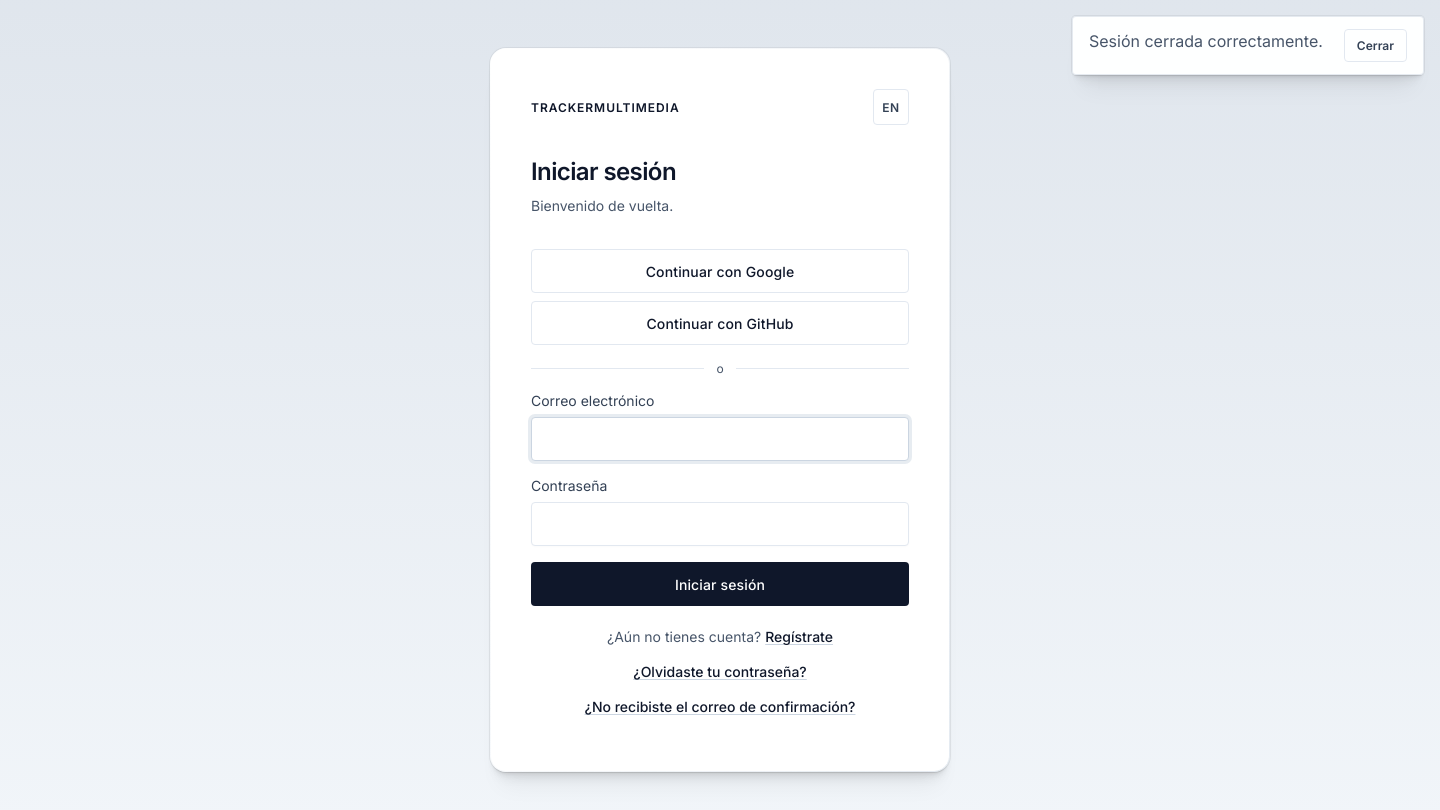
LoginView › renders OAuth methods and shows an error when an OAuth start fails
Expected: the text "Sesión cerrada correctamente." is shown, x1=1089 y1=29 x2=1323 y2=53
Click the button "Continuar con Google". click: [720, 271]
box: x1=531 y1=249 x2=909 y2=293
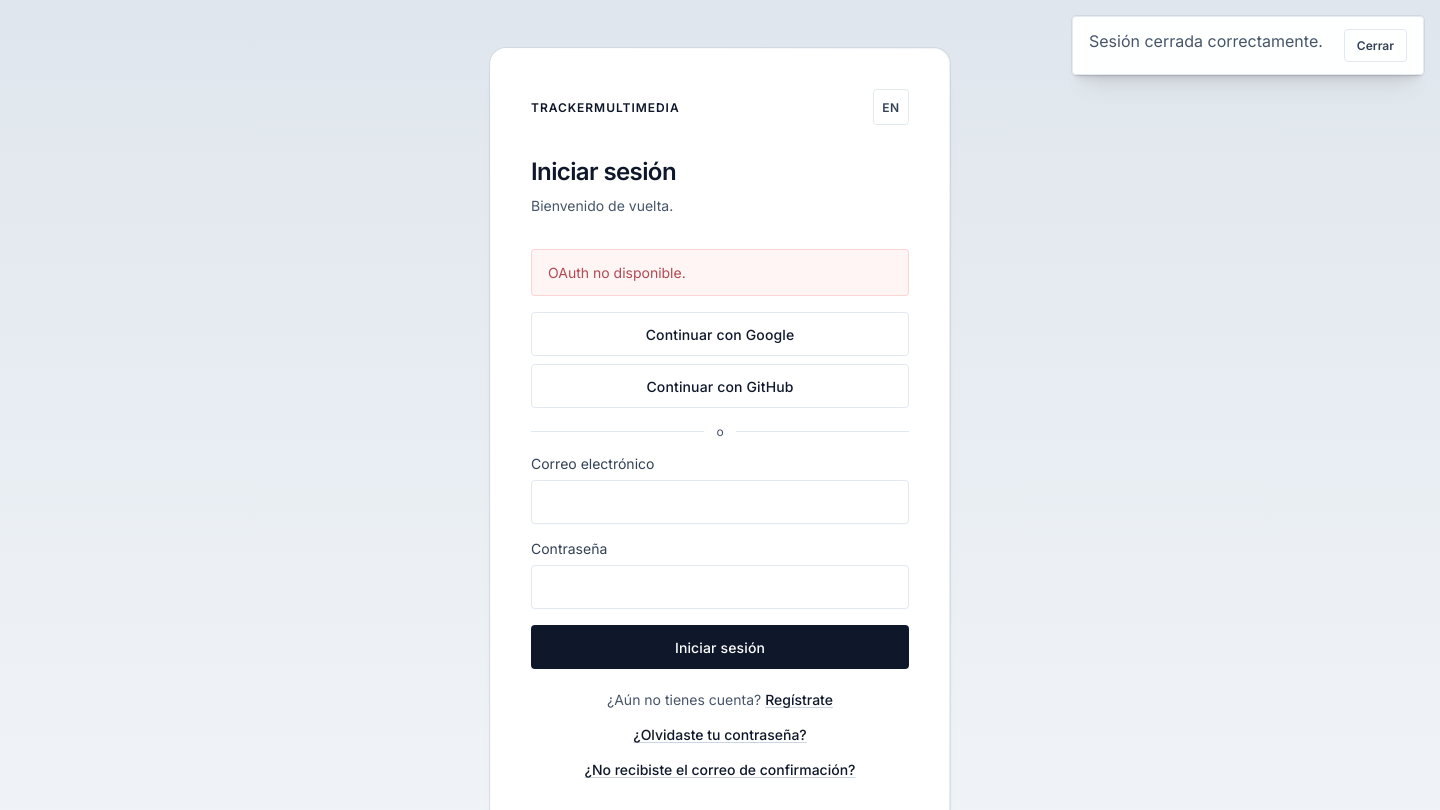
Expected: the button "Continuar con GitHub" is enabled, x1=531 y1=364 x2=909 y2=408
Expected: the message "OAuth no disponible." is shown, x1=531 y1=249 x2=909 y2=296
